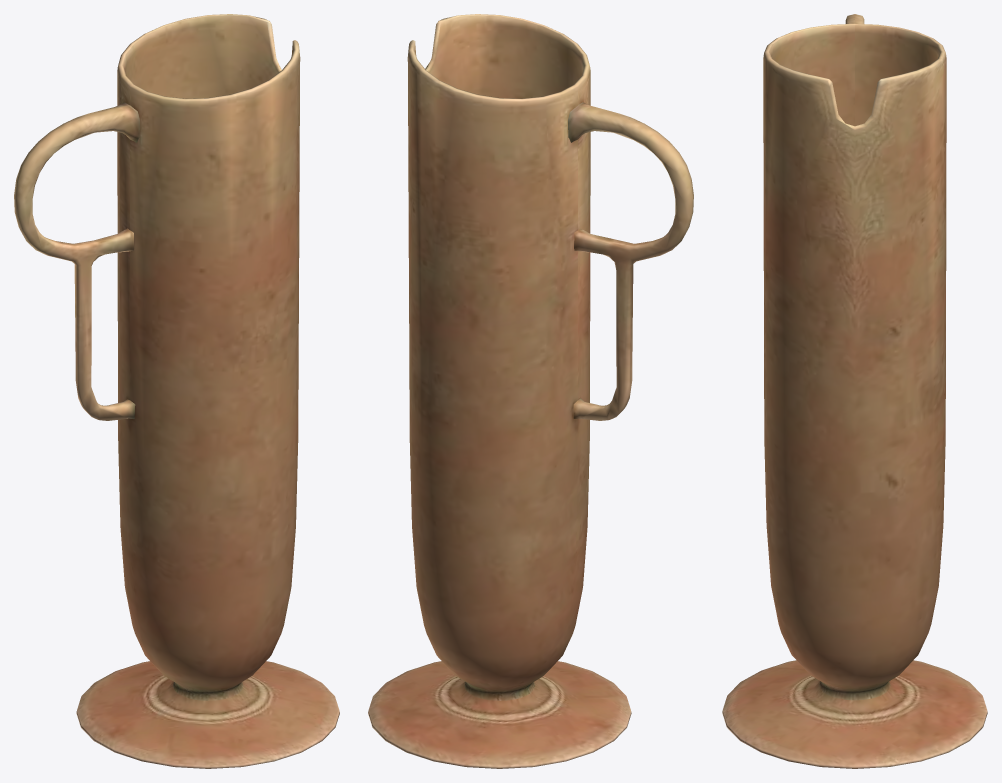
File: brass_vase_04.glb
The picture shows the model from 3 angles, left to right: view 1: azimuth 30°, elevation 25°; view 2: azimuth 150°, elevation 25°; view 3: azimuth 270°, elevation 25°; orthographic projection.
Parts seen in each view (by area): view 1: brass_vase_04; view 2: brass_vase_04; view 3: brass_vase_04.
Part boxes in pixels (x1=…): brass_vase_04: x1=14, y1=14, x2=339, y2=768; brass_vase_04: x1=368, y1=14, x2=693, y2=768; brass_vase_04: x1=722, y1=14, x2=987, y2=768.
Bounding box in the file's own units: 0.082 × 0.1701 × 0.061.
Materials: 1 (1 with a texture image).
